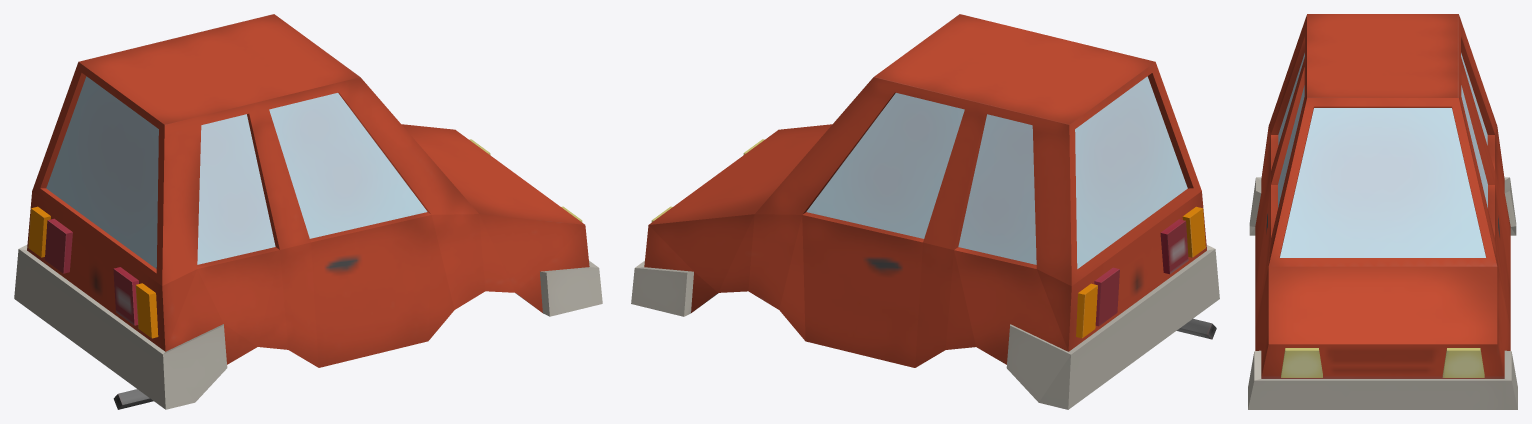
Rendered from co_CarB_03.fbx.
The picture shows the model from 3 angles, left to right: view 1: azimuth 30°, elevation 25°; view 2: azimuth 150°, elevation 25°; view 3: azimuth 270°, elevation 25°; orthographic projection. The views are drawn at different scales.
Visible parts, largest first — view 1: CarB_03; view 2: CarB_03; view 3: CarB_03.
Part boxes in pixels (bbox=[...]): CarB_03: bbox=[14, 14, 602, 409]; CarB_03: bbox=[631, 14, 1219, 409]; CarB_03: bbox=[1248, 14, 1517, 409].
Bounding box in the file's own units: 389 × 219 × 226.
